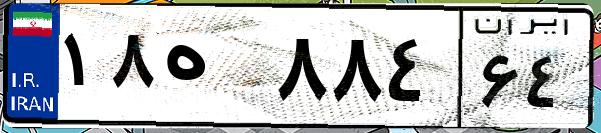1: (57, 26, 110, 100)
4: (385, 28, 445, 110), (525, 38, 570, 115)
6: (475, 38, 525, 113)
8: (270, 28, 330, 110), (330, 28, 385, 110), (110, 28, 158, 98)
ه: (158, 20, 270, 120)
